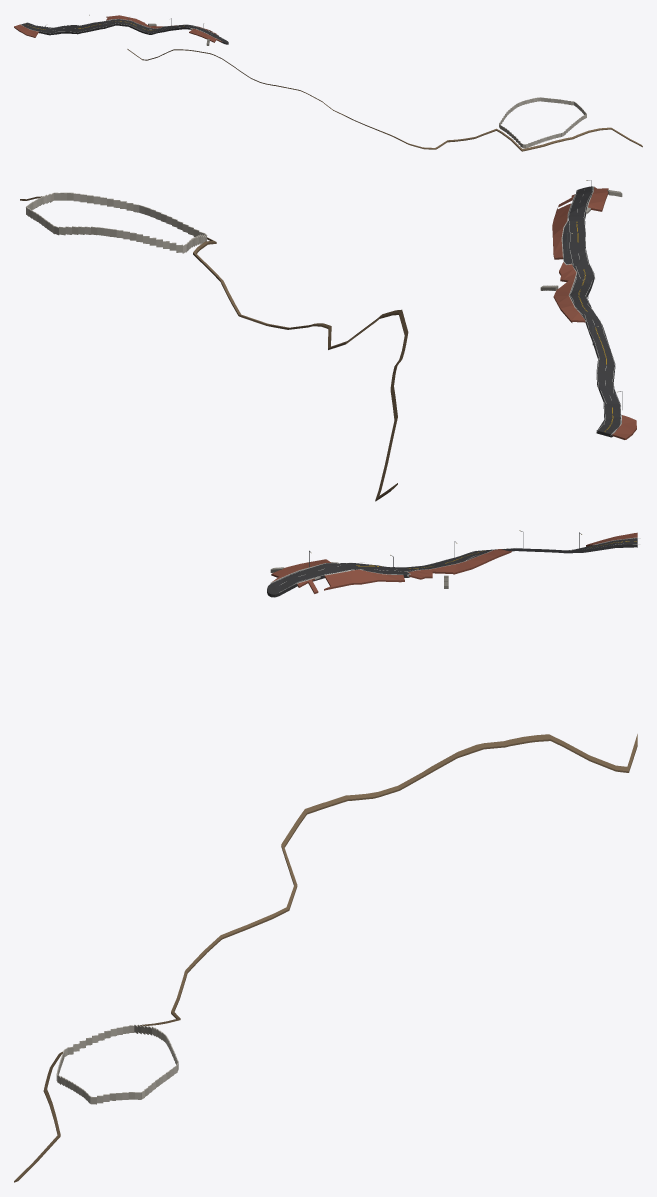
3 views of the same model, one above another, from view 1: azimuth 30°, elevation 25°; view 2: azimuth 150°, elevation 25°; view 3: azimuth 270°, elevation 25° (orthographic). The views are drawn at different scales.
Bounding box in the file's own units: 388 × 124 × 238.
